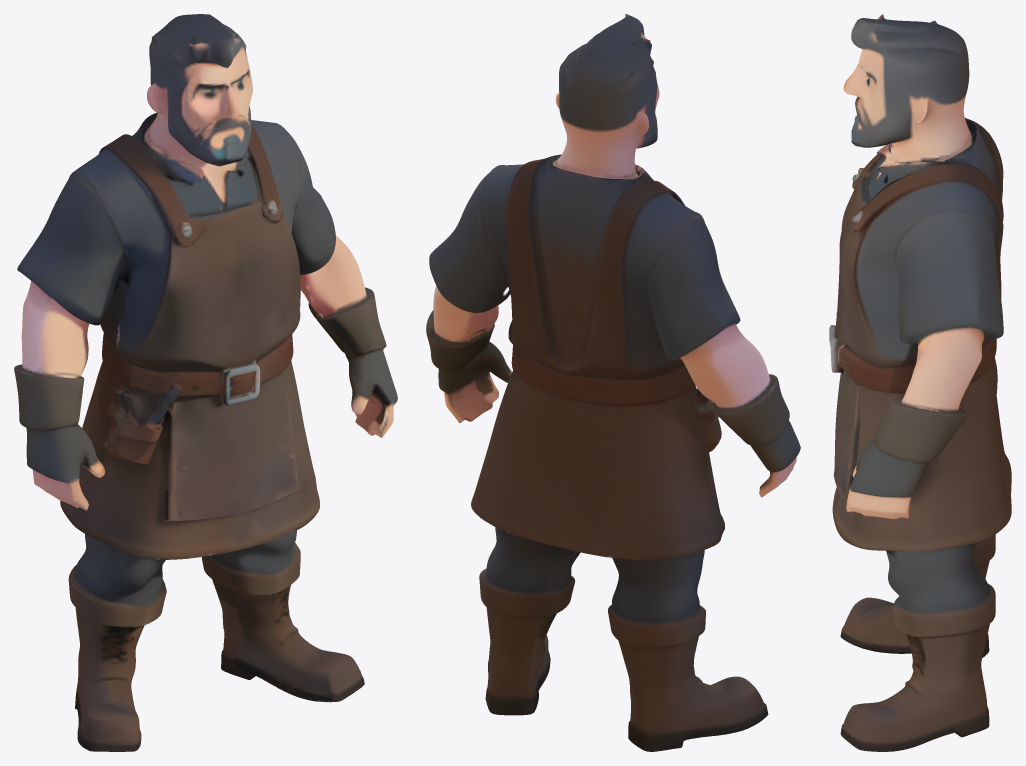
Rendered from base_basic_shaded.fbx.
3 views of the same model, side by side, from view 1: azimuth 30°, elevation 25°; view 2: azimuth 150°, elevation 25°; view 3: azimuth 270°, elevation 25° (orthographic). The views are drawn at different scales.
Visible parts, largest first — view 1: model; view 2: model; view 3: model.
Part boxes in pixels (x1,y1,x2,y2): model: [14, 14, 397, 751]; model: [426, 14, 800, 751]; model: [829, 14, 1011, 751].
Size of the model in its own units: 102 by 190 by 46.64.
